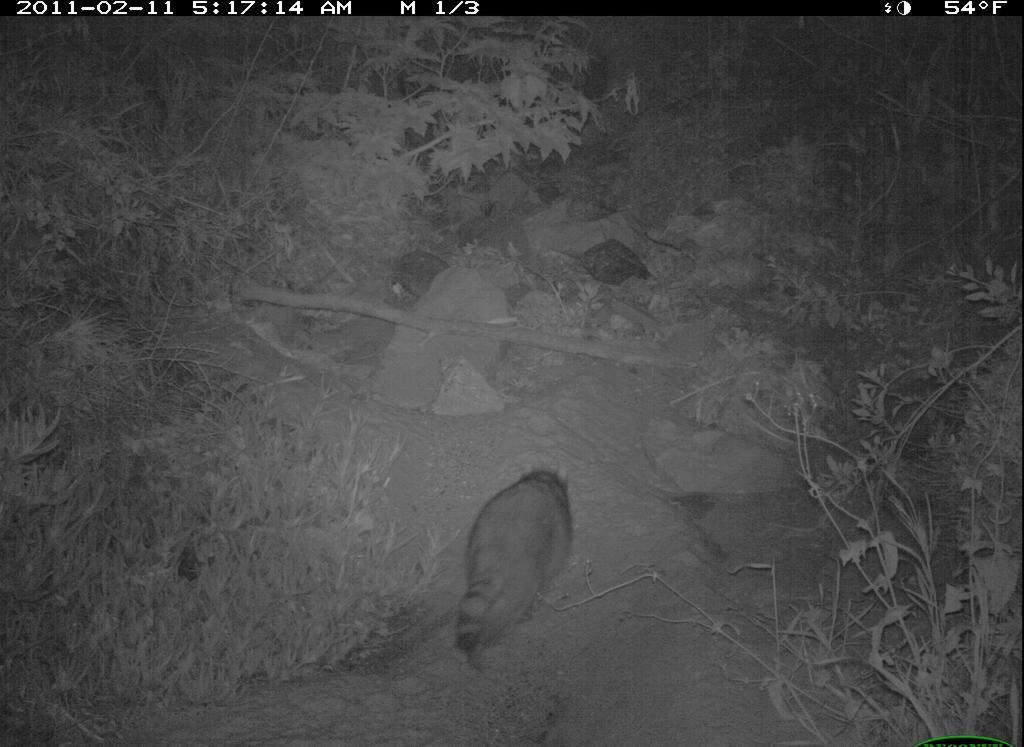raccoon: (429, 442, 607, 678)
